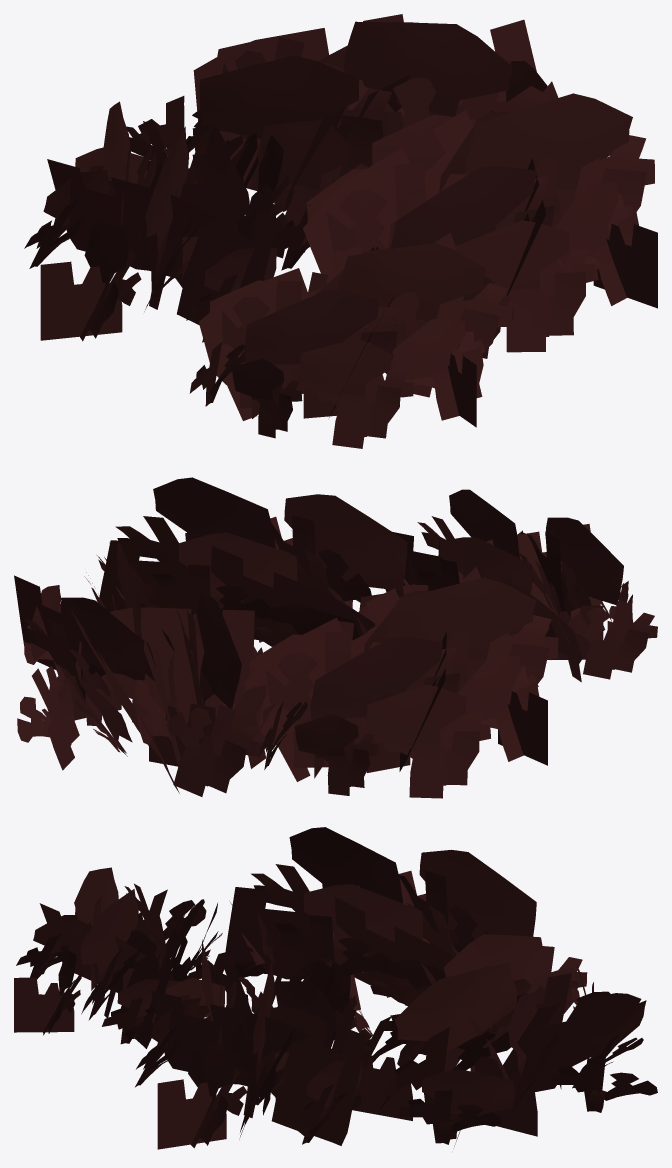
File: SM_ocean_scatterPlant_01_B.fbx
3 renders of one model, top to bottom at view 1: azimuth 30°, elevation 25°; view 2: azimuth 150°, elevation 25°; view 3: azimuth 270°, elevation 25°, orthographic. The views are drawn at different scales.
Parts seen in each view (by area): view 1: SM_ocean_scatterPlant_01_B_LOD0; view 2: SM_ocean_scatterPlant_01_B_LOD0; view 3: SM_ocean_scatterPlant_01_B_LOD0.
Boxes of the visible parts, box(x1,y1,x2,y2) form: SM_ocean_scatterPlant_01_B_LOD0: box(24, 14, 657, 448); SM_ocean_scatterPlant_01_B_LOD0: box(14, 477, 657, 798); SM_ocean_scatterPlant_01_B_LOD0: box(14, 827, 657, 1149).
Size of what is drawn, in the model's own units: 55.05 by 62.33 by 18.35.
